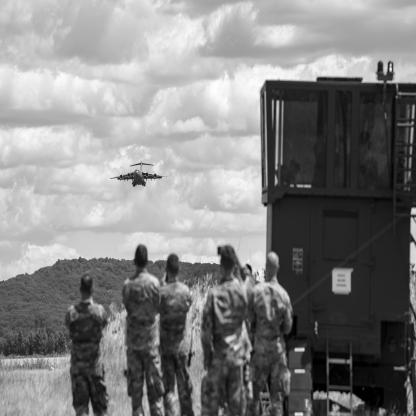C17: (110, 162, 172, 188)
